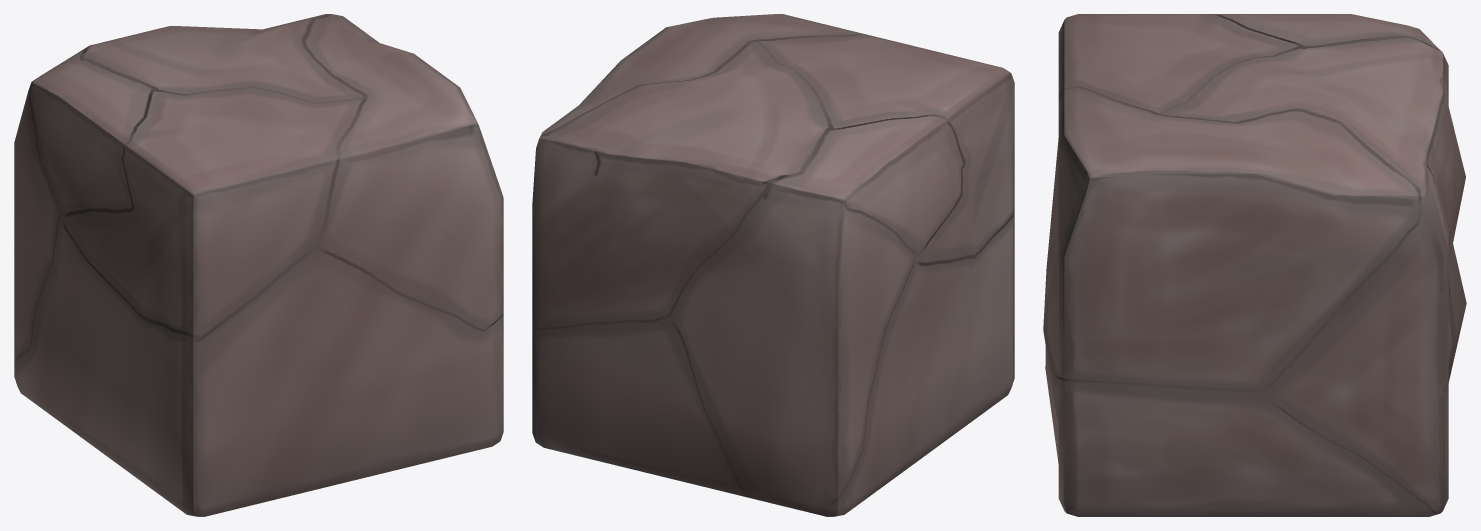
Rendered from P_Rock.fbx.
3 views of the same model, side by side, from view 1: azimuth 30°, elevation 25°; view 2: azimuth 150°, elevation 25°; view 3: azimuth 270°, elevation 25° (orthographic). The views are drawn at different scales.
Visible parts, largest first — view 1: Rock; view 2: Rock; view 3: Rock.
Part boxes in pixels (x1,y1,x2,y2): Rock: [14, 14, 503, 516]; Rock: [532, 14, 1014, 516]; Rock: [1043, 14, 1466, 516].
Bounding box in the file's own units: 103 × 101 × 104.
Materials: 1 (1 with a texture image).
